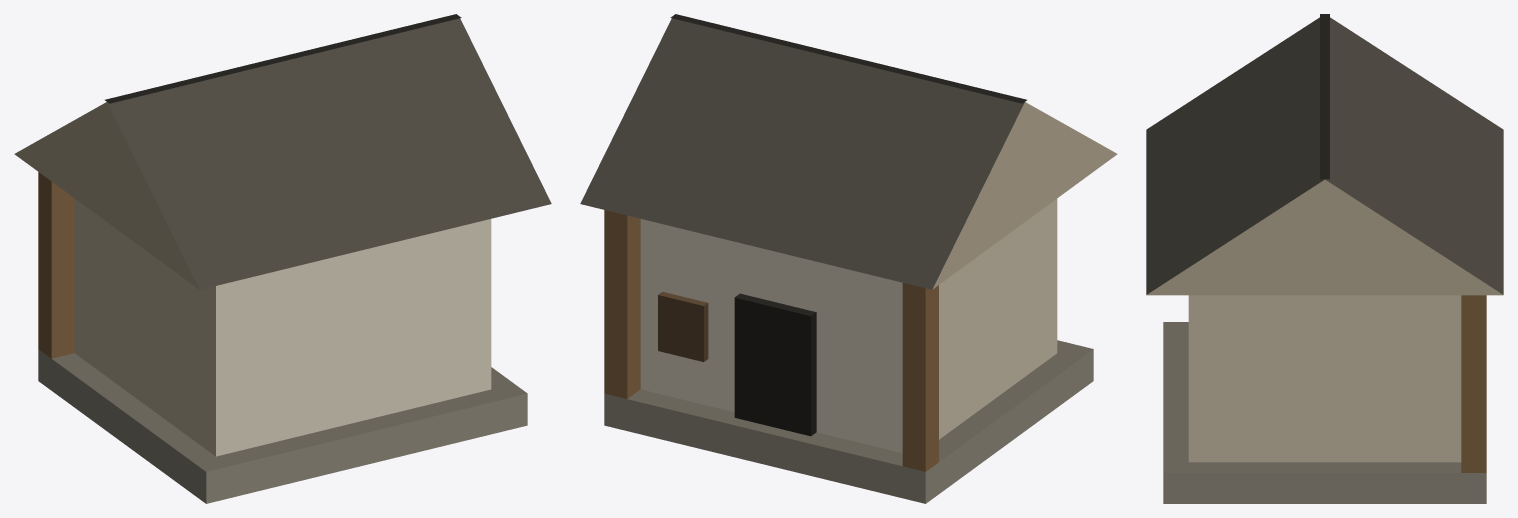
File: bld_house.glb
3 renders of one model, left to right at view 1: azimuth 30°, elevation 25°; view 2: azimuth 150°, elevation 25°; view 3: azimuth 270°, elevation 25°, orthographic. The views are drawn at different scales.
Visible parts, largest first — view 1: bld_house; view 2: bld_house; view 3: bld_house.
Boxes of the visible parts, left/top/right/bottom form: bld_house: left=14, top=14, right=551, bottom=503; bld_house: left=580, top=14, right=1117, bottom=503; bld_house: left=1146, top=14, right=1503, bottom=503.
Bounding box in the file's own units: 0.92 × 0.86 × 0.84.
1 material, 1 textured.
